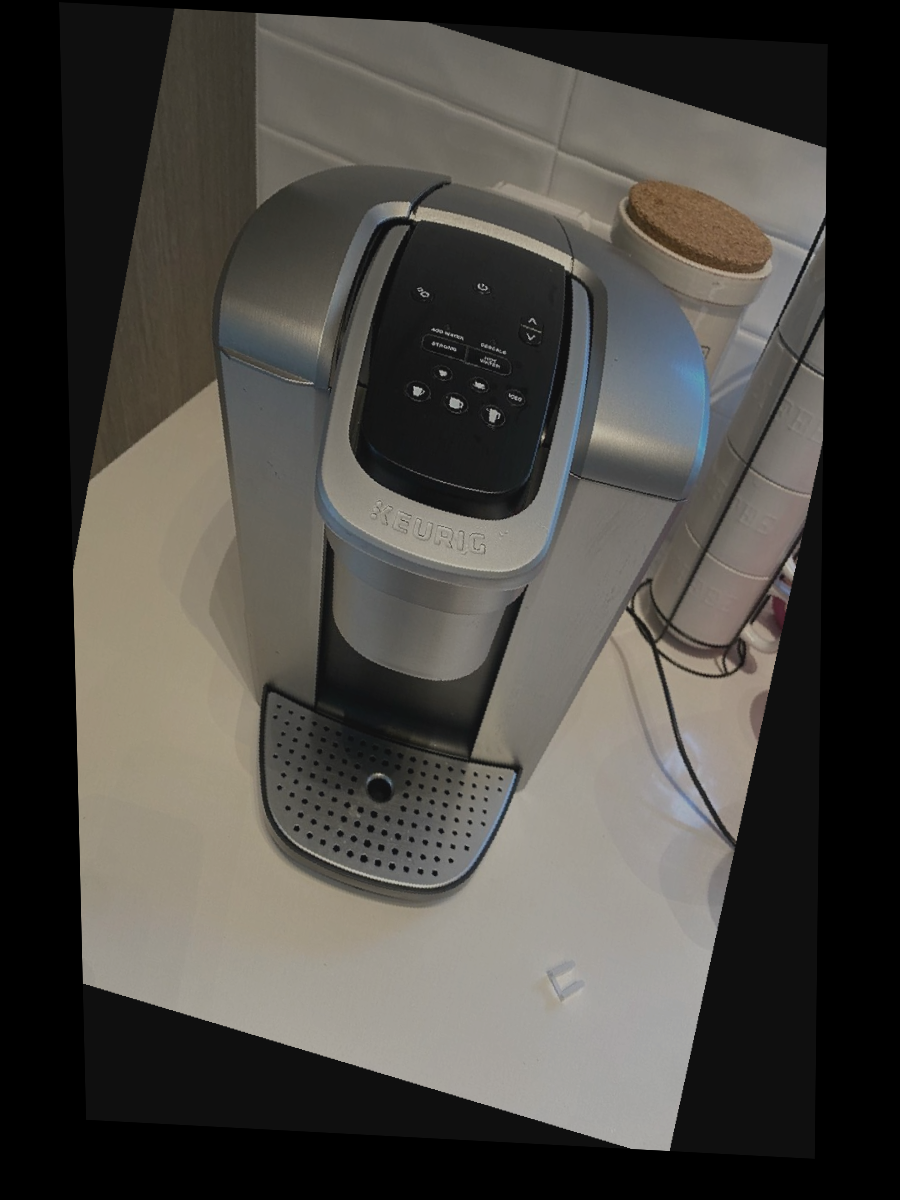10oz: (443, 392, 470, 414)
12oz: (477, 404, 508, 430)
4oz: (433, 365, 455, 382)
6oz: (468, 376, 492, 394)
8oz: (404, 380, 432, 403)
add_water: (424, 312, 475, 344)
coffee_handle: (334, 522, 511, 619)
descale: (469, 326, 520, 358)
hot: (463, 345, 514, 377)
iced: (503, 386, 529, 407)
platform: (360, 766, 403, 810)
power: (471, 279, 494, 298)
strong: (418, 331, 469, 363)
water_handle: (215, 338, 317, 397)
